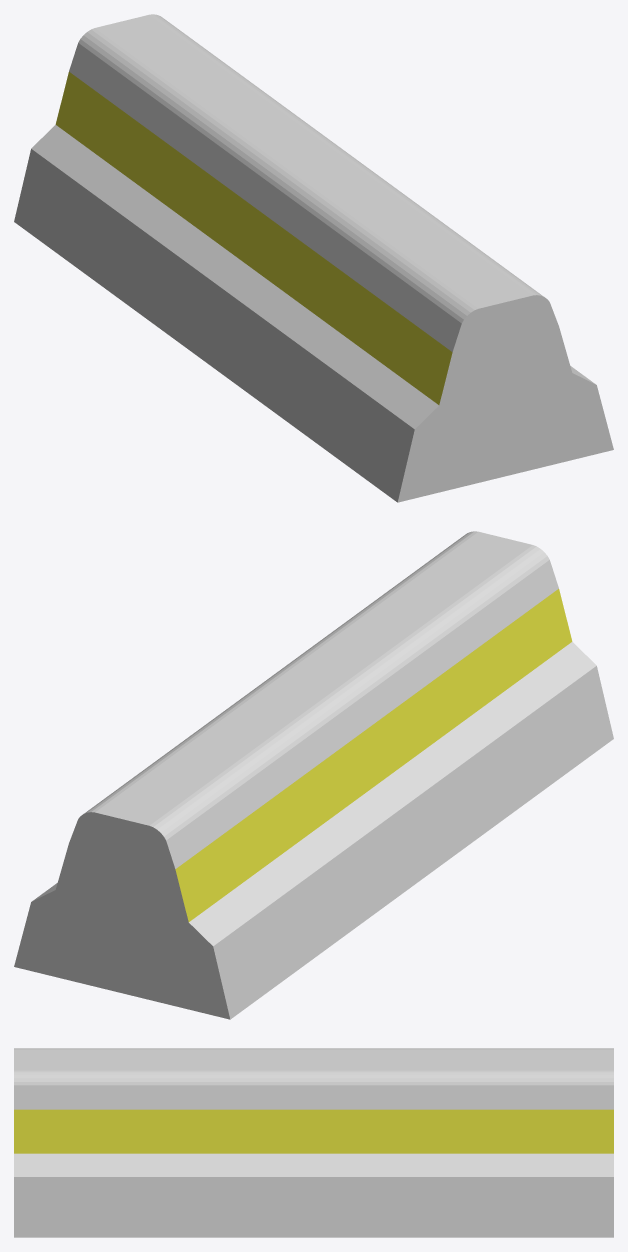
The model's file is GamesE_E03_banqueta de piedra.fbx.
3 renders of one model, top to bottom at view 1: azimuth 30°, elevation 25°; view 2: azimuth 150°, elevation 25°; view 3: azimuth 270°, elevation 25°, orthographic. The views are drawn at different scales.
Visible parts, largest first — view 1: Cube; view 2: Cube; view 3: Cube.
Boxes of the visible parts, x1,y1,x2,y2 form: Cube: (14, 14, 613, 502); Cube: (14, 531, 613, 1019); Cube: (14, 1048, 613, 1237).
Bounding box in the file's own units: 260 × 200 × 799.
